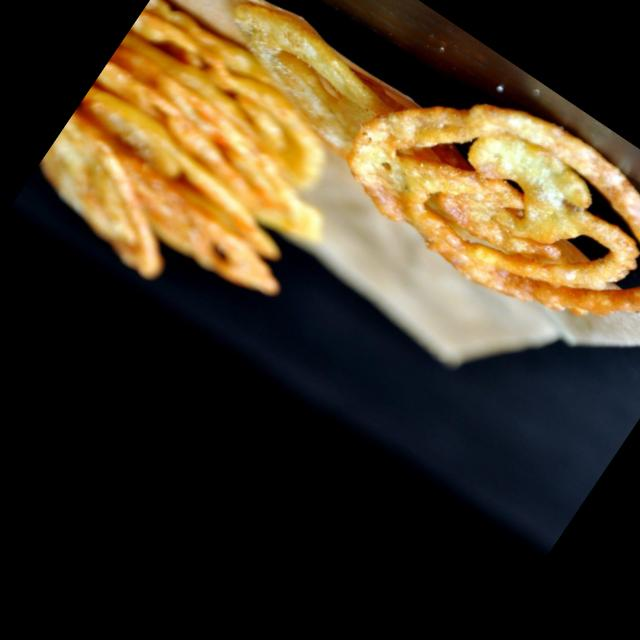jalebi: (275, 13, 640, 394), (11, 0, 380, 350)
